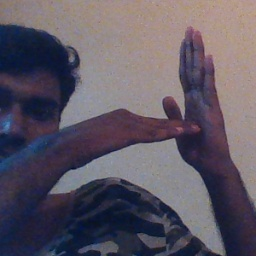Z: (117, 23, 231, 178)
